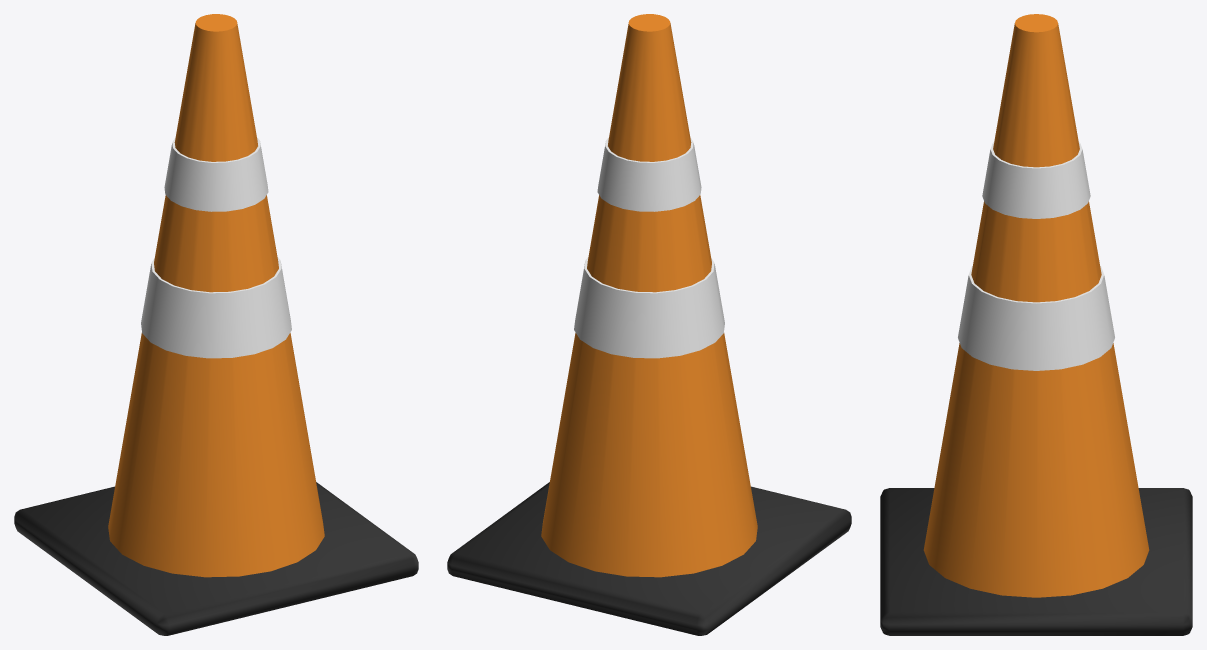
The picture shows the model from 3 angles, left to right: view 1: azimuth 30°, elevation 25°; view 2: azimuth 150°, elevation 25°; view 3: azimuth 270°, elevation 25°; orthographic projection. The views are drawn at different scales.
Parts seen in each view (by area): view 1: Cone.002, Cone base.002, Reflective white.002; view 2: Cone.002, Cone base.002, Reflective white.002; view 3: Cone.002, Cone base.002, Reflective white.002.
Boxes of the visible parts, box(x1,y1,x2,y2) form: Cone.002: box(108, 14, 324, 577); Cone base.002: box(14, 482, 418, 635); Reflective white.002: box(141, 137, 291, 358); Cone.002: box(541, 14, 757, 577); Cone base.002: box(447, 482, 851, 635); Reflective white.002: box(574, 137, 724, 358); Cone.002: box(923, 14, 1149, 597); Cone base.002: box(880, 488, 1192, 635); Reflective white.002: box(958, 142, 1114, 370).
Size of the model in its own units: 0.324 by 0.63 by 0.324.
